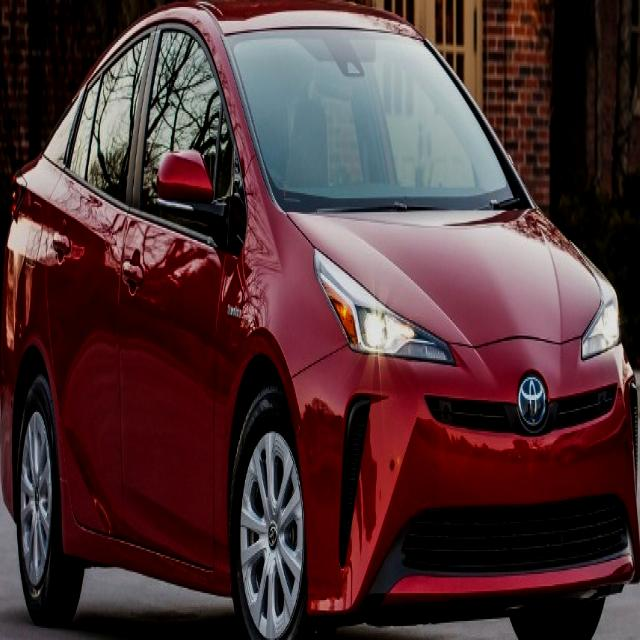maroon: (0, 8, 635, 608)
